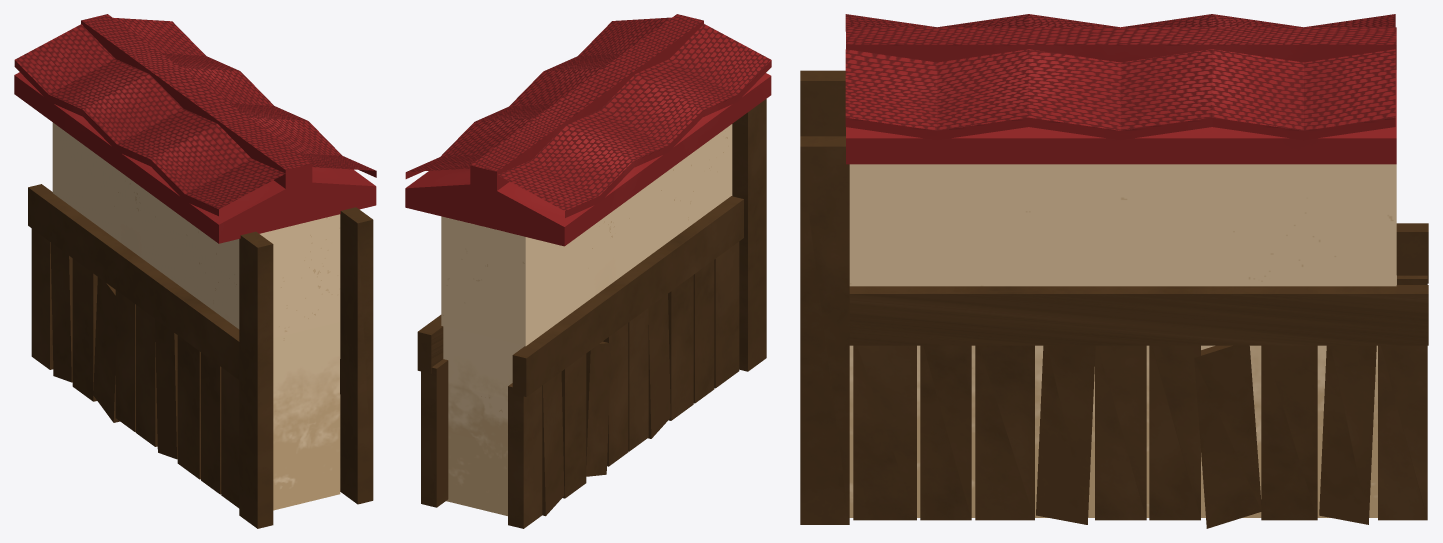
The model's file is ModuleWall.fbx.
The picture shows the model from 3 angles, left to right: view 1: azimuth 30°, elevation 25°; view 2: azimuth 150°, elevation 25°; view 3: azimuth 270°, elevation 25°; orthographic projection. The views are drawn at different scales.
Visible parts, largest first — view 1: ModuleWall, LongWallDec, LongWallDec004; view 2: ModuleWall, LongWallDec, LongWallDec004; view 3: ModuleWall, LongWallDec004, LongWallDec.
Part boxes in pixels (x1=…): ModuleWall: x1=14, y1=14, x2=376, y2=510; LongWallDec: x1=28, y1=184, x2=273, y2=528; LongWallDec004: x1=340, y1=207, x2=373, y2=504; ModuleWall: x1=405, y1=14, x2=771, y2=515; LongWallDec: x1=508, y1=99, x2=766, y2=528; LongWallDec004: x1=417, y1=315, x2=448, y2=507; ModuleWall: x1=845, y1=14, x2=1396, y2=517; LongWallDec004: x1=800, y1=136, x2=1428, y2=528; LongWallDec: x1=800, y1=70, x2=1428, y2=284.
Bounding box in the file's own units: 17.26 × 35.73 × 44.26.
2 materials, 2 textured.
